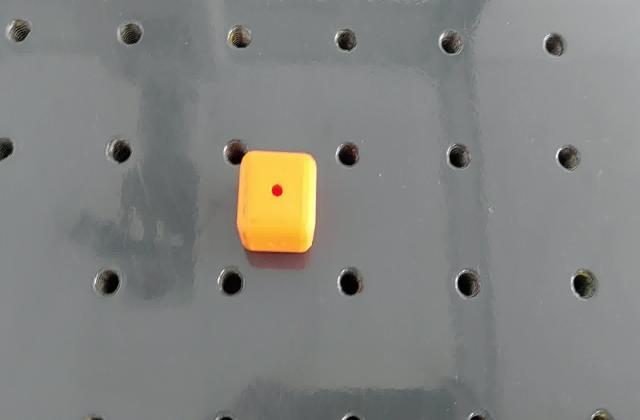cube: (234, 148, 320, 258)
